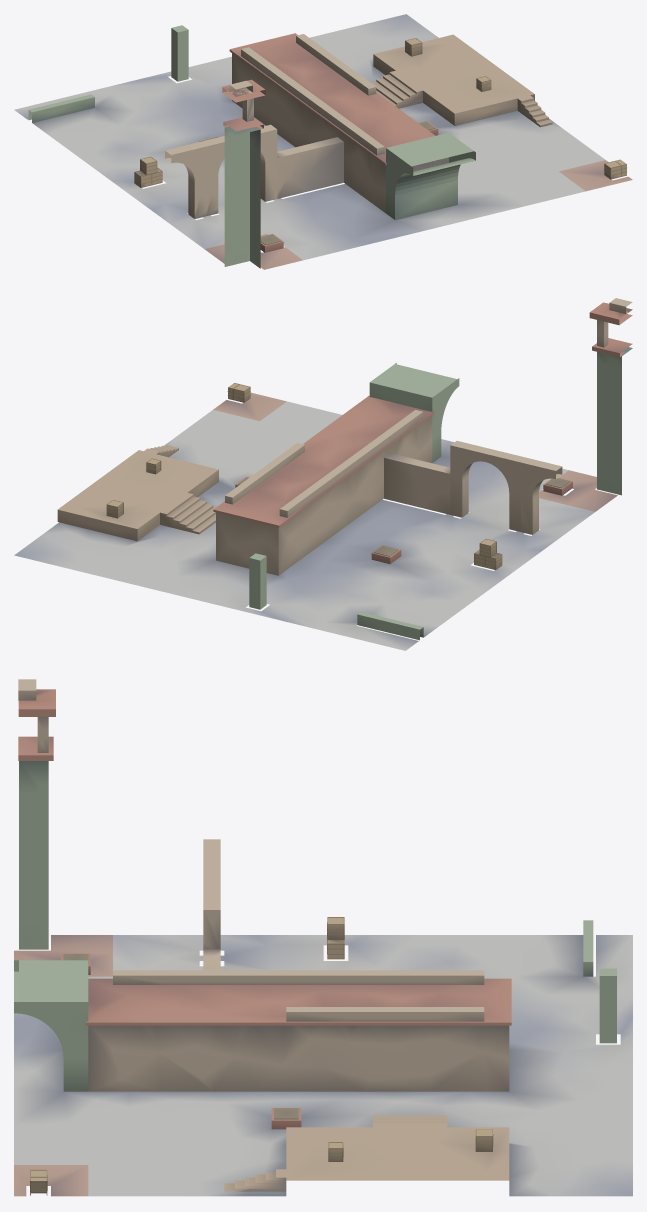
3 renders of one model, top to bottom at view 1: azimuth 30°, elevation 25°; view 2: azimuth 150°, elevation 25°; view 3: azimuth 270°, elevation 25°, orthographic. The views are drawn at different scales.
Visible parts, largest first — view 1: t; view 2: t; view 3: t.
Part boxes in pixels (left/top/right/bottom): t: left=14, top=14, right=632, bottom=269; t: left=14, top=298, right=632, bottom=650; t: left=14, top=679, right=632, bottom=1196.
Bounding box in the file's own units: 50.61 × 22.6 × 50.
